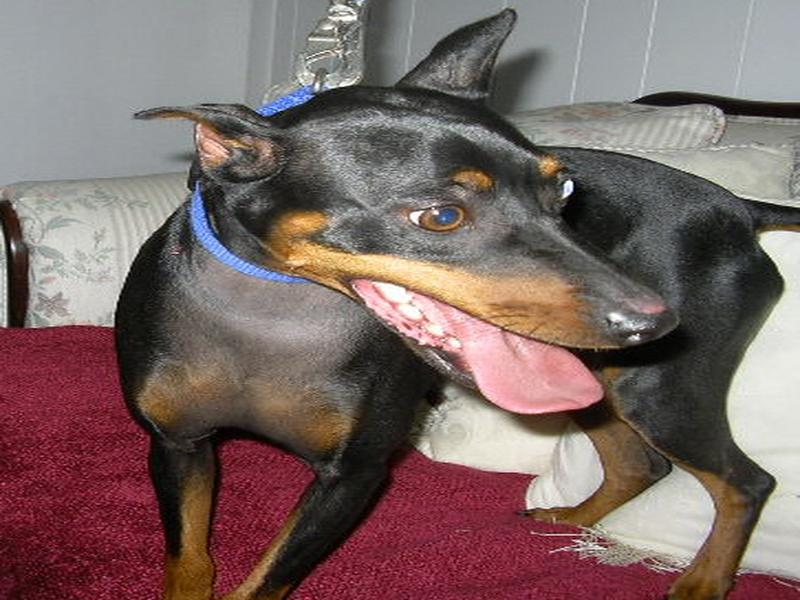dog: (113, 57, 776, 593)
